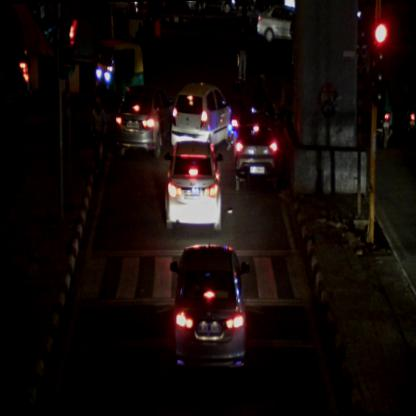car: (170, 244, 251, 374), (164, 140, 224, 231), (115, 84, 170, 160), (171, 82, 232, 146), (232, 111, 275, 191), (256, 2, 294, 44), (183, 0, 237, 18)
motorcycle: (378, 72, 395, 151)
